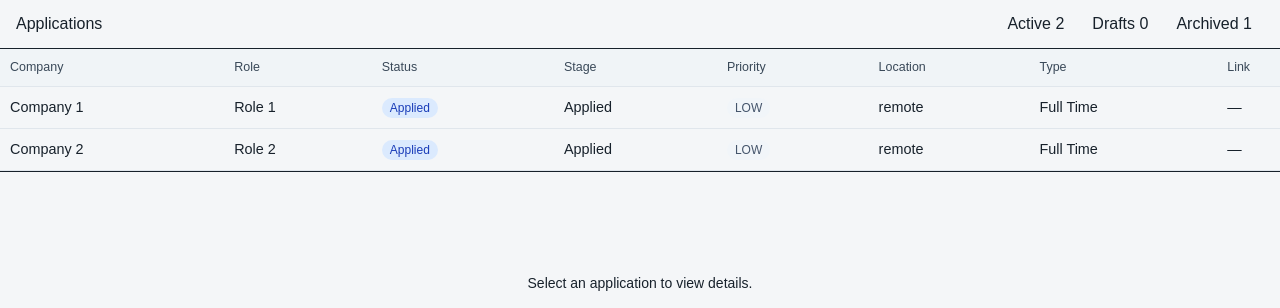
Test case: ApplicationsPanel — data fetching › archived tab renders fetched archived rows
Expected: the text "Company 1" is shown, [10,99,84,115]
Click the button "Archived 1" at x=1214, y=24, box [1164,8,1264,40]
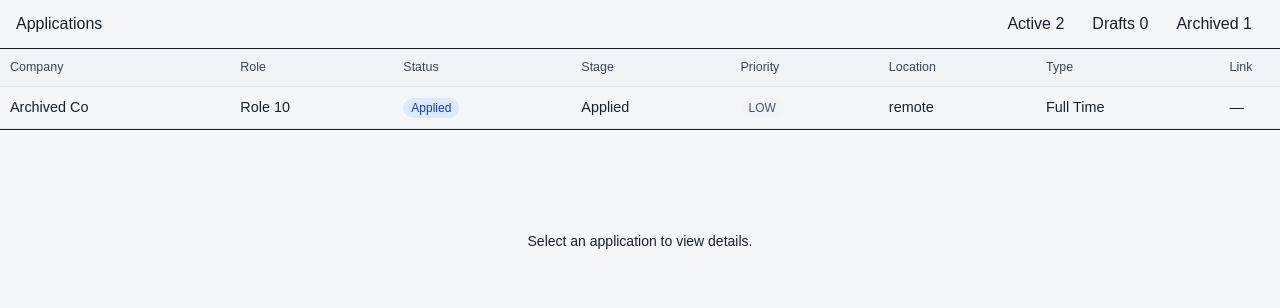
Now the text "Archived Co" is shown, box [10,99,88,115]
